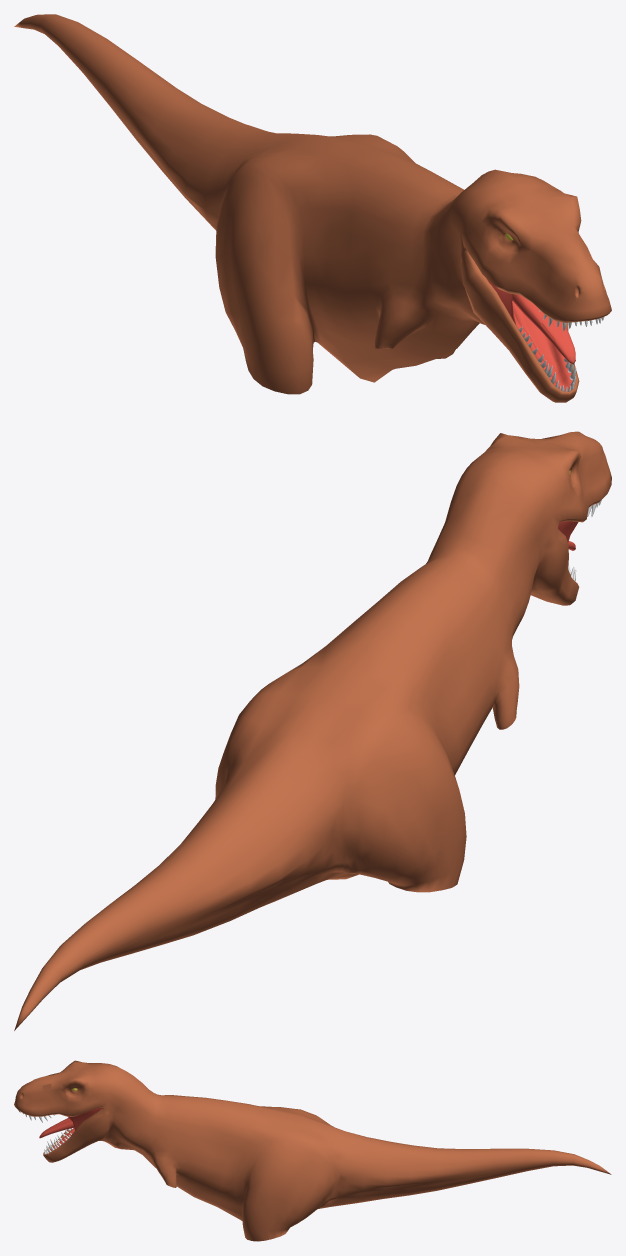
Rendered from Cuerpo.obj.
The picture shows the model from 3 angles, top to bottom: view 1: azimuth 30°, elevation 25°; view 2: azimuth 150°, elevation 25°; view 3: azimuth 270°, elevation 25°; orthographic projection. The views are drawn at different scales.
Parts seen in each view (by area): view 1: treeSphere03; view 2: treeSphere03; view 3: treeSphere03.
Boxes of the visible parts, box(x1,y1,x2,y2) form: treeSphere03: box(14, 14, 611, 402); treeSphere03: box(14, 431, 611, 1030); treeSphere03: box(14, 1060, 611, 1241).
Bounding box in the file's own units: 4.85 × 6.76 × 23.5.
Materials: 6 (6 with a texture image).
